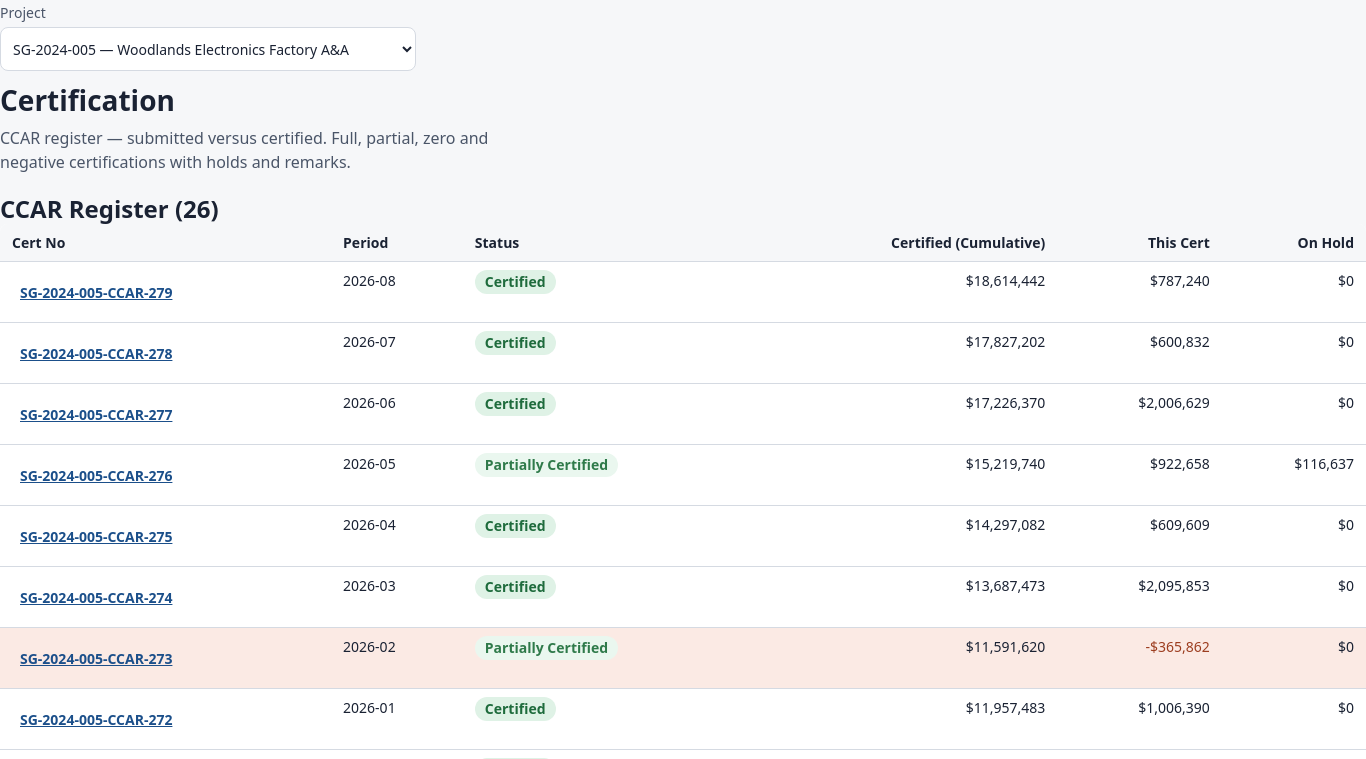
Test: CertificationView (TASK-008) › shows negative certification with the AR credit intent note
The width and height of the screenshot is (1366, 759).
Click the button "SG-2024-005-CCAR-273": (96, 658) [12,636,180,680]
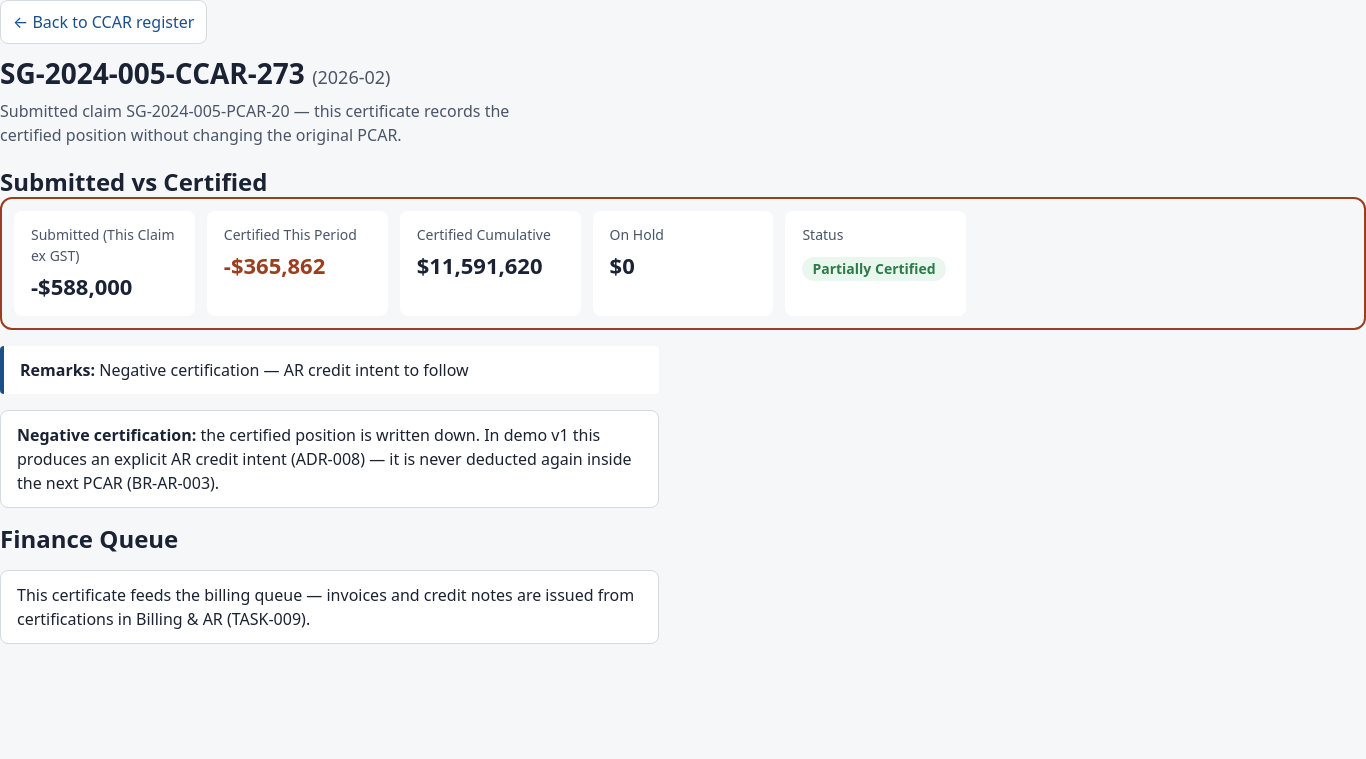
Now the message shows "Negative certification", box [17,424,196,446]
Now the message shows "AR credit intent", box [17,424,632,494]
